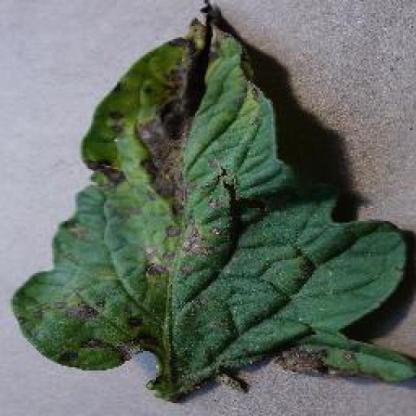Tomato_Blight: (11, 0, 413, 400)
